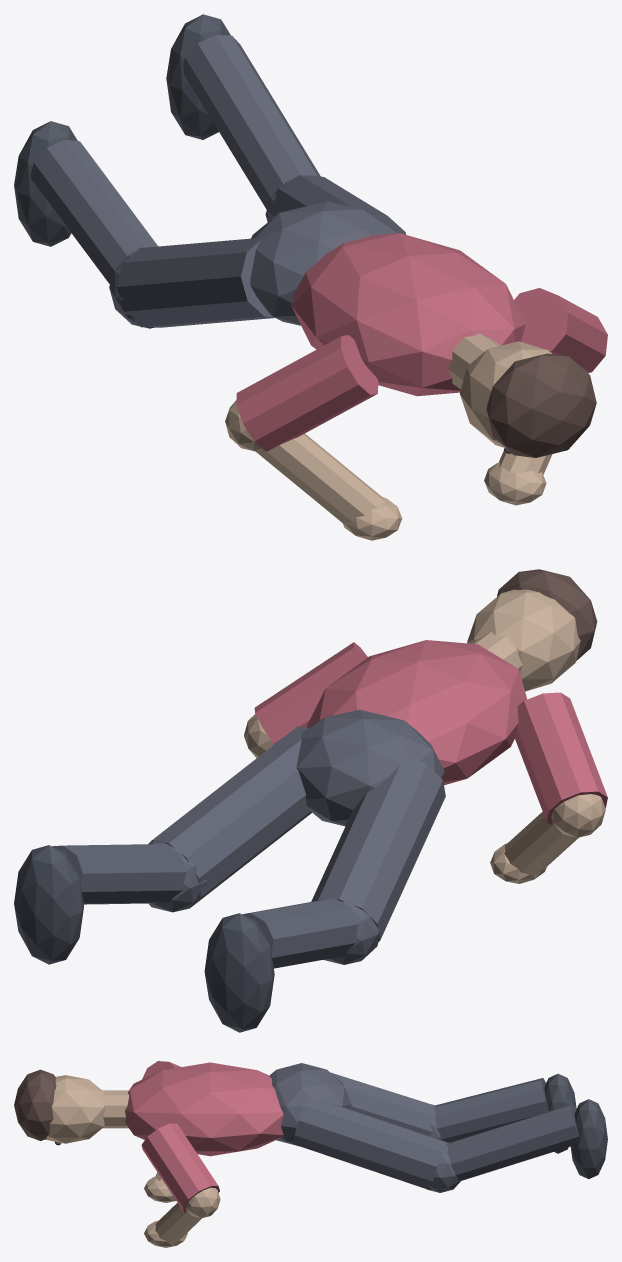
3 views of the same model, one above another, from view 1: azimuth 30°, elevation 25°; view 2: azimuth 150°, elevation 25°; view 3: azimuth 270°, elevation 25° (orthographic). The views are drawn at different scales.
Parts seen in each view (by area): view 1: world; view 2: world; view 3: world.
Boxes of the visible parts, box(x1,y1,x2,y2) form: world: box(14, 14, 607, 540); world: box(14, 569, 607, 1032); world: box(14, 1061, 607, 1247).
Bounding box in the file's own units: 0.93 × 0.57 × 2.01.
